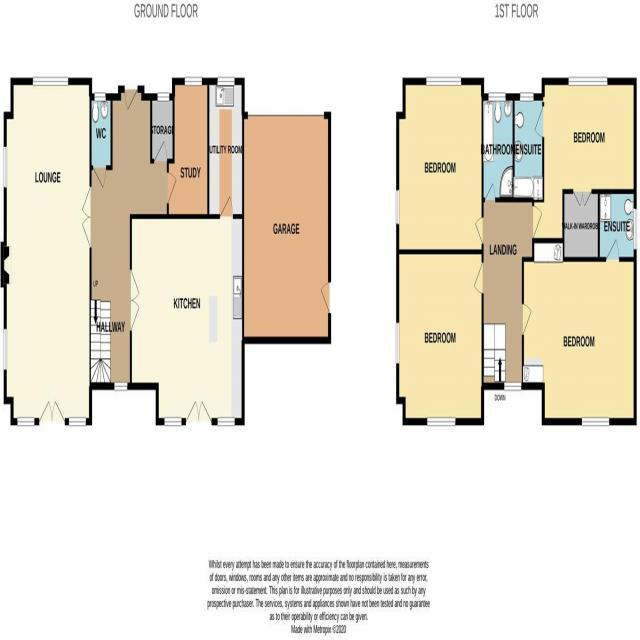DOOR: (531, 203, 544, 248), (520, 299, 534, 339), (532, 101, 545, 143), (218, 191, 235, 222), (472, 259, 485, 297), (123, 83, 138, 115), (153, 138, 169, 167), (166, 170, 178, 208), (92, 164, 107, 194), (473, 213, 485, 249), (483, 178, 498, 205)
DOUBLE DOOR: (129, 265, 143, 336), (183, 397, 213, 428), (80, 182, 93, 251), (37, 396, 67, 425)
ROOM: (0, 75, 93, 429), (129, 192, 245, 426), (522, 234, 638, 427), (532, 76, 638, 244), (396, 75, 484, 258), (395, 248, 484, 427), (166, 76, 210, 220), (207, 76, 245, 220)
WINDOW: (567, 73, 609, 89), (425, 74, 463, 90), (32, 74, 69, 89), (426, 415, 457, 430), (580, 414, 610, 429), (394, 321, 401, 367), (216, 74, 235, 89), (2, 326, 8, 373), (503, 379, 523, 393), (487, 90, 507, 104), (2, 145, 8, 191), (632, 207, 638, 252), (184, 75, 203, 89), (163, 415, 183, 428), (519, 89, 535, 105), (16, 415, 35, 428), (68, 415, 87, 428), (395, 187, 401, 228), (93, 90, 107, 104), (156, 90, 170, 104), (113, 380, 128, 393)
